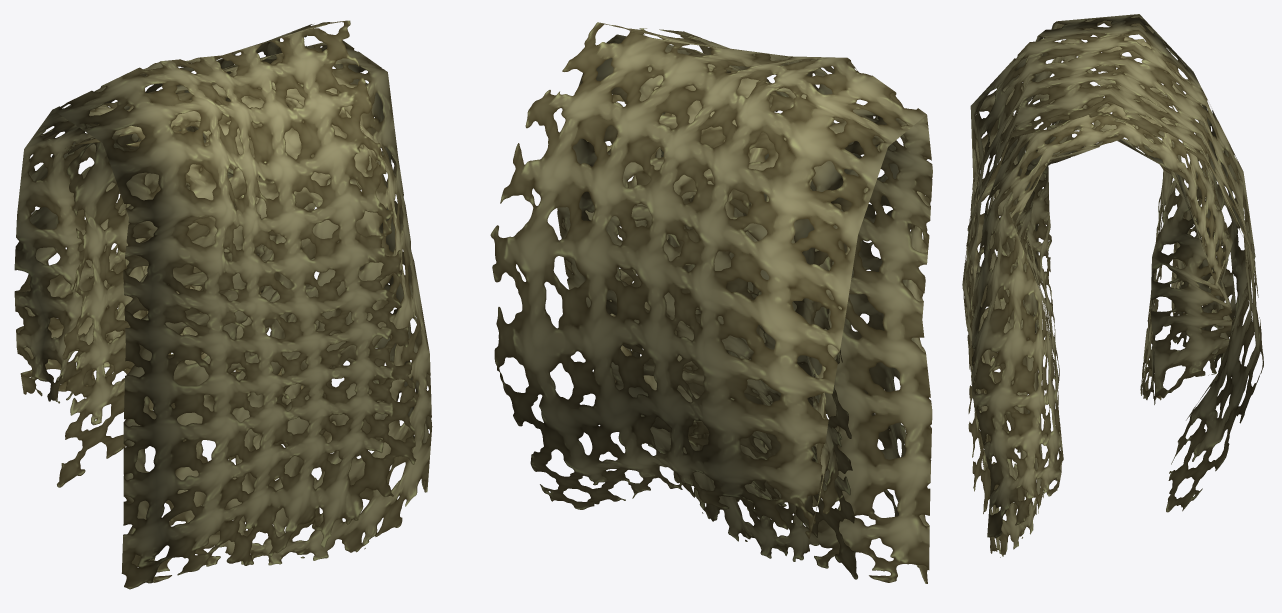
The model's file is SM_PROP_net_town_02.fbx.
3 views of the same model, side by side, from view 1: azimuth 30°, elevation 25°; view 2: azimuth 150°, elevation 25°; view 3: azimuth 270°, elevation 25° (orthographic). The views are drawn at different scales.
Visible parts, largest first — view 1: SM_PROP_net_town_02_LOD0; view 2: SM_PROP_net_town_02_LOD0; view 3: SM_PROP_net_town_02_LOD0.
Part boxes in pixels (bbox=[...]): SM_PROP_net_town_02_LOD0: bbox=[14, 20, 432, 589]; SM_PROP_net_town_02_LOD0: bbox=[490, 22, 932, 583]; SM_PROP_net_town_02_LOD0: bbox=[962, 14, 1263, 557].
Size of what is drawn, in the model's own units: 53.62 by 80.33 by 45.79.
